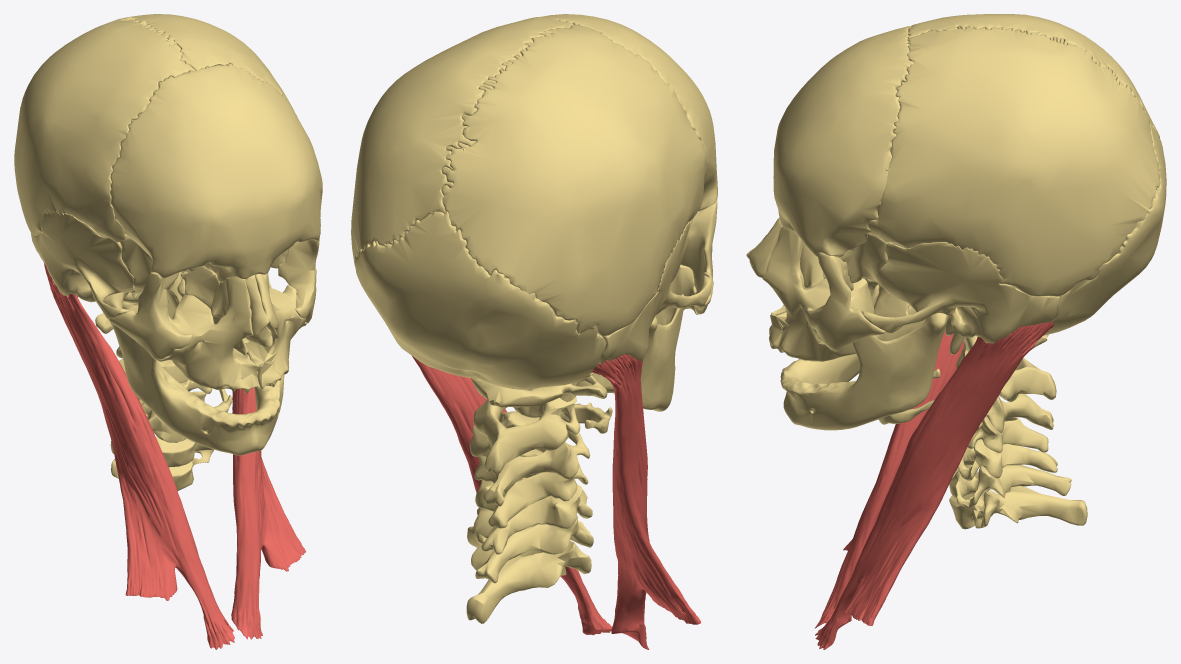
Rendered from head-neck.glb.
3 views of the same model, side by side, from view 1: azimuth 30°, elevation 25°; view 2: azimuth 150°, elevation 25°; view 3: azimuth 270°, elevation 25° (orthographic). The views are drawn at different scales.
Visible parts, largest first — view 1: head-neck:frontal-bone:isa:FJ3200, head-neck:parietal-bone:isa:FJ3380, head-neck:sternocleidomastoid:isa:FJ1595, head-neck:mandible:isa:FJ3289, head-neck:sternocleidomastoid:isa:FJ1573, head-neck:maxilla:isa:FJ3375, head-neck:temporal-bone:isa:FJ3386, head-neck:parietal-bone:isa:FJ3274, head-neck:zygomatic-bone:isa:FJ3392, head-neck:maxilla:isa:FJ3269, head-neck:zygomatic-bone:isa:FJ3287, head-neck:sphenoid-bone:isa:FJ3394 (+7 smaller); view 2: head-neck:parietal-bone:isa:FJ3380, head-neck:occiput:isa:FJ3309, head-neck:parietal-bone:isa:FJ3274, head-neck:sternocleidomastoid:isa:FJ1595, head-neck:frontal-bone:isa:FJ3200, head-neck:axis:isa:FJ3177, head-neck:seventh-cervical-vertebra:isa:FJ3172, head-neck:sternocleidomastoid:isa:FJ1573, head-neck:third-cervical-vertebra:isa:FJ3161, head-neck:temporal-bone:isa:FJ3386, head-neck:mandible:isa:FJ3289, head-neck:sixth-cervical-vertebra:isa:FJ3170 (+6 smaller); view 3: head-neck:parietal-bone:isa:FJ3274, head-neck:frontal-bone:isa:FJ3200, head-neck:sternocleidomastoid:isa:FJ1573, head-neck:mandible:isa:FJ3289, head-neck:temporal-bone:isa:FJ3281, head-neck:maxilla:isa:FJ3269, head-neck:occiput:isa:FJ3309, head-neck:sternocleidomastoid:isa:FJ1595, head-neck:parietal-bone:isa:FJ3380, head-neck:seventh-cervical-vertebra:isa:FJ3172, head-neck:zygomatic-bone:isa:FJ3287, head-neck:sixth-cervical-vertebra:isa:FJ3170 (+7 smaller).
Boxes of the visible parts, x1,y1,x2,y2 form: head-neck:frontal-bone:isa:FJ3200: (110, 63, 322, 282); head-neck:parietal-bone:isa:FJ3380: (14, 17, 194, 242); head-neck:sternocleidomastoid:isa:FJ1595: (44, 263, 234, 649); head-neck:mandible:isa:FJ3289: (103, 279, 284, 455); head-neck:sternocleidomastoid:isa:FJ1573: (231, 387, 305, 639); head-neck:maxilla:isa:FJ3375: (158, 276, 260, 393); head-neck:temporal-bone:isa:FJ3386: (31, 211, 134, 324); head-neck:parietal-bone:isa:FJ3274: (120, 14, 297, 117); head-neck:zygomatic-bone:isa:FJ3392: (109, 272, 192, 360); head-neck:maxilla:isa:FJ3269: (234, 272, 306, 388); head-neck:zygomatic-bone:isa:FJ3287: (278, 238, 319, 323); head-neck:sphenoid-bone:isa:FJ3394: (120, 235, 288, 319); head-neck:parietal-bone:isa:FJ3380: (441, 24, 706, 336); head-neck:occiput:isa:FJ3309: (354, 211, 605, 389); head-neck:parietal-bone:isa:FJ3274: (351, 16, 573, 267); head-neck:sternocleidomastoid:isa:FJ1595: (591, 354, 700, 649); head-neck:frontal-bone:isa:FJ3200: (542, 14, 717, 211); head-neck:axis:isa:FJ3177: (473, 388, 580, 473); head-neck:seventh-cervical-vertebra:isa:FJ3172: (466, 526, 591, 623); head-neck:sternocleidomastoid:isa:FJ1573: (411, 355, 611, 635); head-neck:third-cervical-vertebra:isa:FJ3161: (469, 411, 589, 506); head-neck:temporal-bone:isa:FJ3386: (592, 218, 712, 372); head-neck:mandible:isa:FJ3289: (578, 294, 683, 411); head-neck:sixth-cervical-vertebra:isa:FJ3170: (474, 508, 593, 583); head-neck:parietal-bone:isa:FJ3274: (868, 26, 1160, 296); head-neck:frontal-bone:isa:FJ3200: (773, 25, 913, 256); head-neck:sternocleidomastoid:isa:FJ1573: (815, 321, 1054, 649); head-neck:mandible:isa:FJ3289: (780, 305, 948, 430); head-neck:temporal-bone:isa:FJ3281: (861, 242, 1059, 354); head-neck:maxilla:isa:FJ3269: (762, 227, 874, 361); head-neck:occiput:isa:FJ3309: (1043, 122, 1166, 335); head-neck:sternocleidomastoid:isa:FJ1595: (814, 330, 964, 628); head-neck:parietal-bone:isa:FJ3380: (907, 14, 1159, 137); head-neck:seventh-cervical-vertebra:isa:FJ3172: (949, 486, 1087, 529); head-neck:zygomatic-bone:isa:FJ3287: (805, 252, 885, 351); head-neck:sixth-cervical-vertebra:isa:FJ3170: (949, 439, 1071, 507).
Bounding box in the file's own units: 0.151 × 0.3343 × 0.2088.
